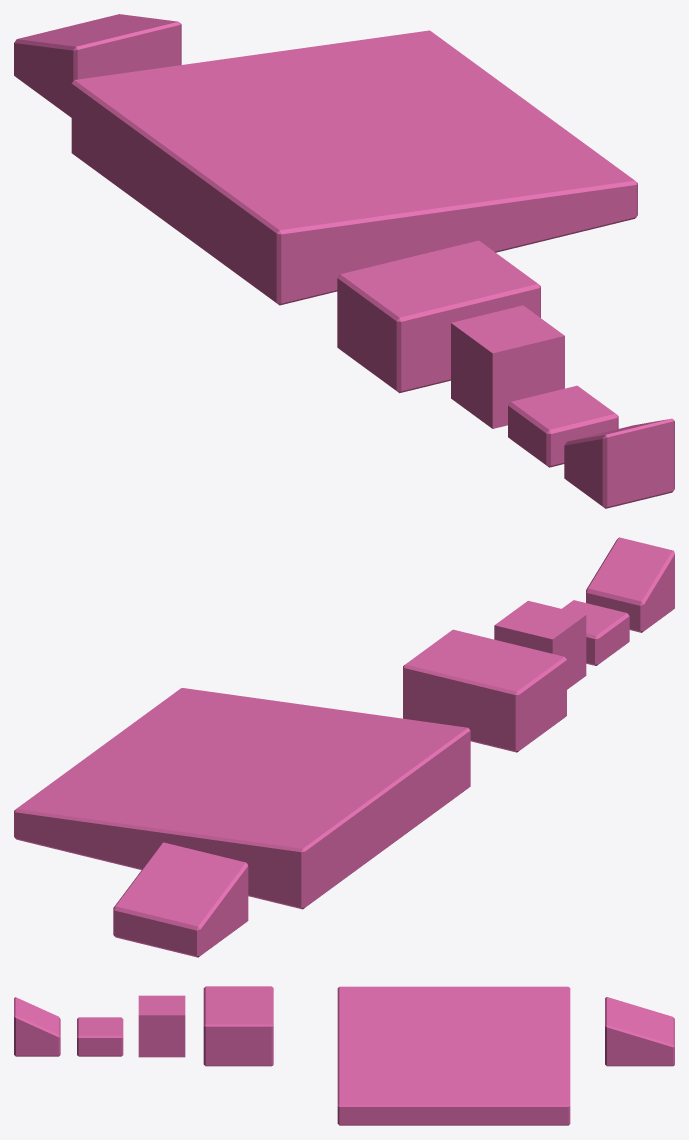
Rendered from world_blocks.glb.
The picture shows the model from 3 angles, top to bottom: view 1: azimuth 30°, elevation 25°; view 2: azimuth 150°, elevation 25°; view 3: azimuth 270°, elevation 25°; orthographic projection. The views are drawn at different scales.
Parts seen in each view (by area): view 1: GiantBlock, Block2x2, Block, HalvedBlock2x2, RampTop, HalvedBlock; view 2: GiantBlock, Block2x2, HalvedBlock2x2, RampTop, Block, HalvedBlock; view 3: GiantBlock, Block2x2, HalvedBlock2x2, Block, RampTop, HalvedBlock.
Boxes of the visible parts, bbox=[...] form: GiantBlock: bbox=[71, 30, 637, 305]; Block2x2: bbox=[337, 240, 540, 393]; Block: bbox=[451, 305, 564, 428]; HalvedBlock2x2: bbox=[14, 14, 181, 117]; RampTop: bbox=[564, 418, 674, 508]; HalvedBlock: bbox=[508, 385, 618, 467]; GiantBlock: bbox=[14, 688, 470, 909]; Block2x2: bbox=[403, 629, 566, 752]; HalvedBlock2x2: bbox=[113, 842, 248, 957]; RampTop: bbox=[586, 537, 674, 632]; Block: bbox=[494, 600, 586, 689]; HalvedBlock: bbox=[562, 600, 629, 665]; GiantBlock: bbox=[337, 986, 570, 1125]; Block2x2: bbox=[203, 986, 273, 1066]; HalvedBlock2x2: bbox=[605, 997, 674, 1066]; Block: bbox=[138, 995, 185, 1057]; RampTop: bbox=[14, 997, 60, 1056]; HalvedBlock: bbox=[77, 1017, 123, 1056].
Size of what is drawn, in the model's own units: 10 by 2 by 28.39.
